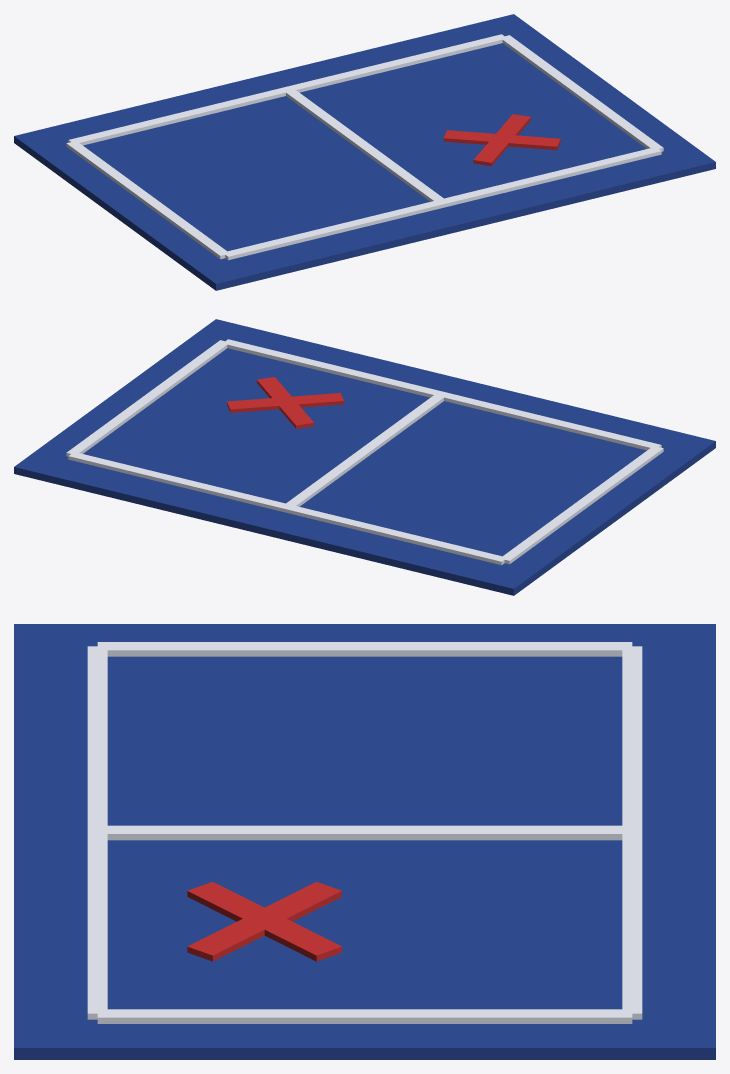
Rendered from carwash_museum_plan.glb.
3 renders of one model, top to bottom at view 1: azimuth 30°, elevation 25°; view 2: azimuth 150°, elevation 25°; view 3: azimuth 270°, elevation 25°, orthographic. The views are drawn at different scales.
Visible parts, largest first — view 1: paper_plan_blue, walls_plan_white, cross_plan_red (×2); view 2: paper_plan_blue, walls_plan_white, cross_plan_red (×2); view 3: paper_plan_blue, walls_plan_white, cross_plan_red (×2).
Boxes of the visible parts, left/top/right/bottom form: paper_plan_blue: left=14, top=14, right=715, bottom=290; walls_plan_white: left=66, top=34, right=663, bottom=260; cross_plan_red (×2): left=443, top=114, right=560, bottom=166; paper_plan_blue: left=14, top=319, right=715, bottom=595; walls_plan_white: left=66, top=339, right=663, bottom=565; cross_plan_red (×2): left=227, top=377, right=343, bottom=428; paper_plan_blue: left=14, top=624, right=715, bottom=1059; walls_plan_white: left=87, top=642, right=642, bottom=1023; cross_plan_red (×2): left=187, top=881, right=341, bottom=961.
Bounding box in the file's own units: 0.3 × 0.007 × 0.21.
